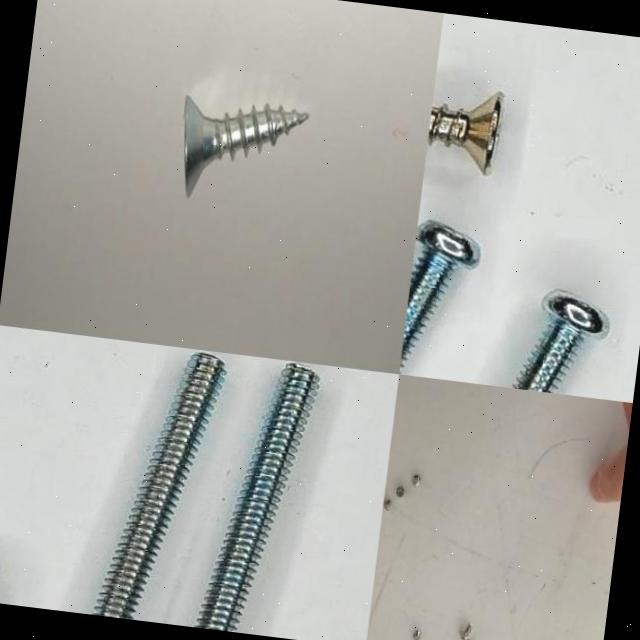Screw: (92, 352, 224, 619), (196, 362, 318, 632), (183, 97, 308, 198), (400, 221, 479, 365), (514, 291, 608, 393), (428, 91, 503, 174), (456, 621, 472, 640), (408, 474, 422, 488), (393, 484, 405, 500), (411, 626, 423, 640), (382, 497, 392, 512)
